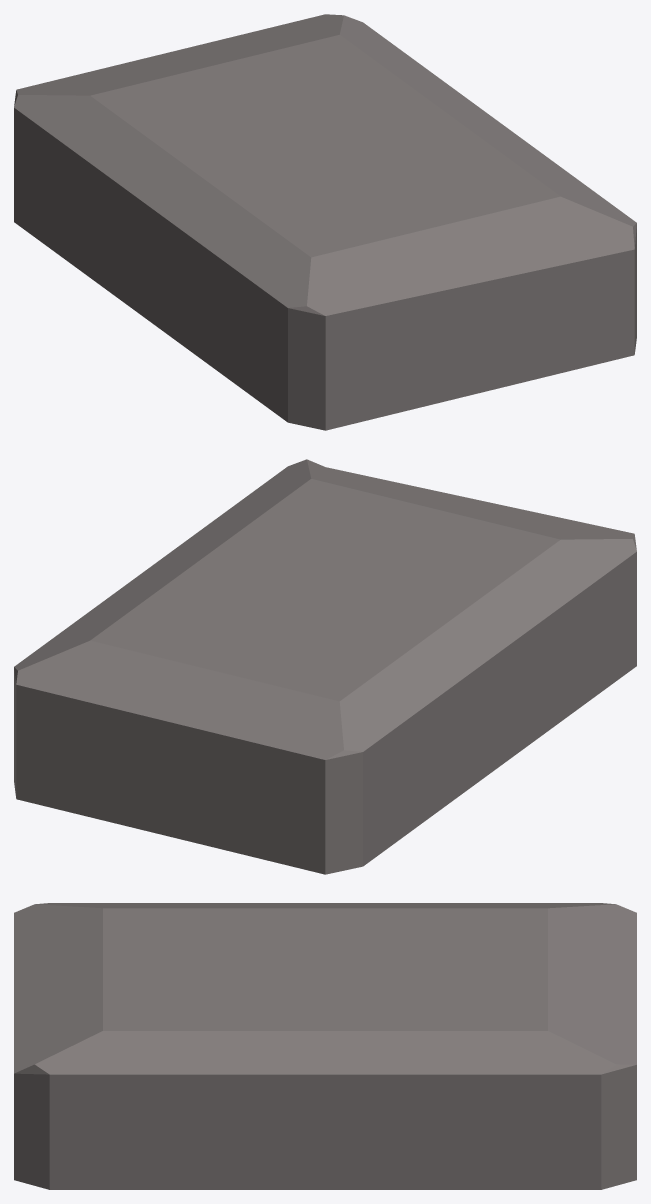
File: Button_top.fbx
The picture shows the model from 3 angles, top to bottom: view 1: azimuth 30°, elevation 25°; view 2: azimuth 150°, elevation 25°; view 3: azimuth 270°, elevation 25°; orthographic projection.
Parts seen in each view (by area): view 1: Cube.001; view 2: Cube.001; view 3: Cube.001.
Part boxes in pixels (x1,y1,x2,y2): Cube.001: (14, 14, 636, 430); Cube.001: (14, 459, 636, 874); Cube.001: (14, 903, 636, 1189).
Size of the model in its own units: 63.3 by 23.16 by 97.14.
1 material, 1 textured.
